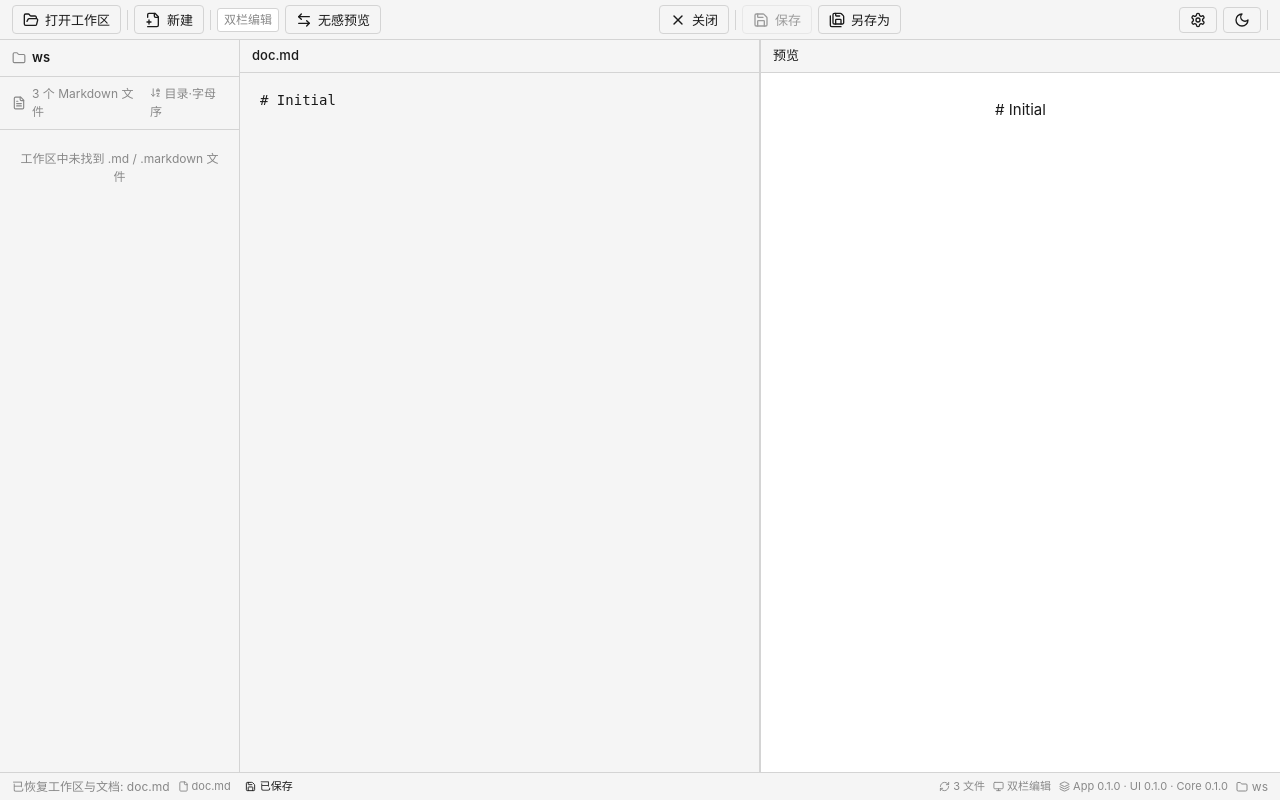
Test: T11 — 无感编辑器与保存状态联动 › 编辑后 dirty 状态传播到 Rust（set_document_dirty true）
Step 1. Replace the text in the text box with class "content-editor-textarea" with "# Modified" → (500, 422), box [240, 72, 759, 772]
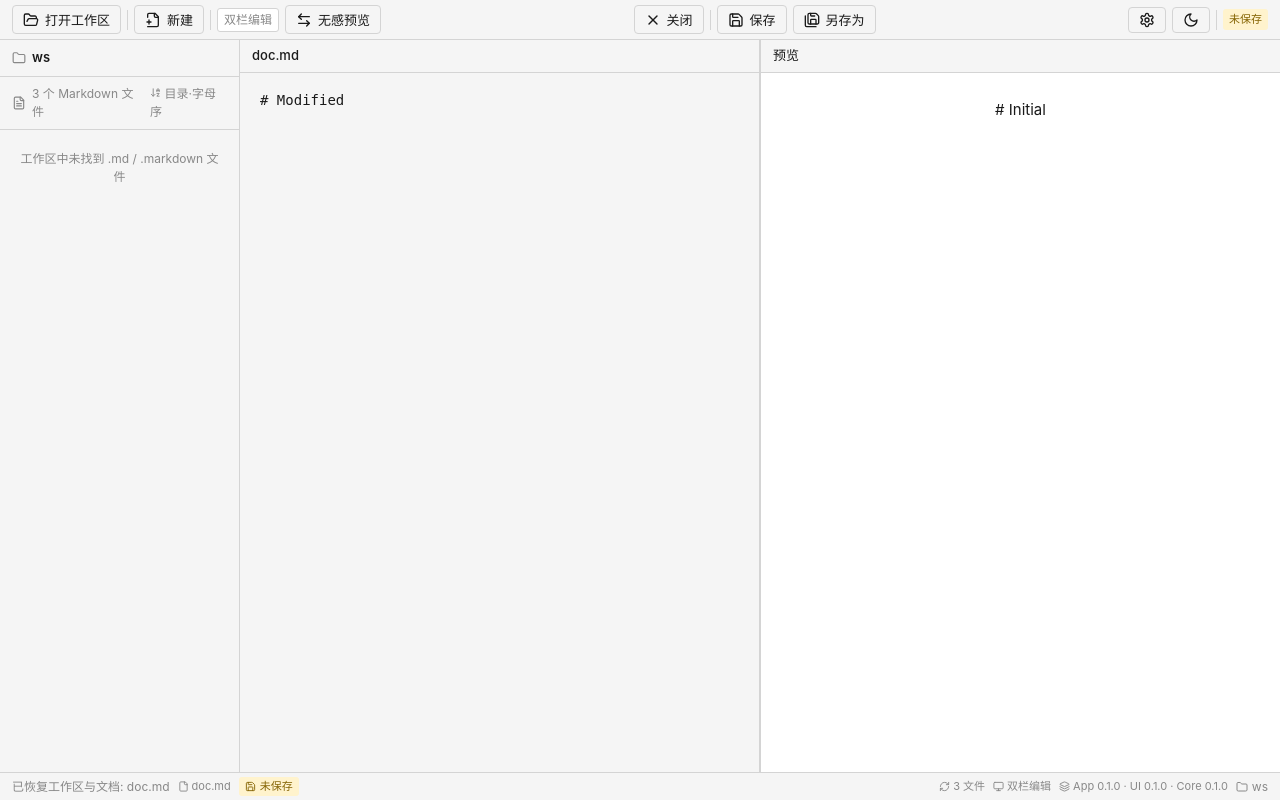
Now the button "保存" is enabled, box [716, 5, 786, 34]
